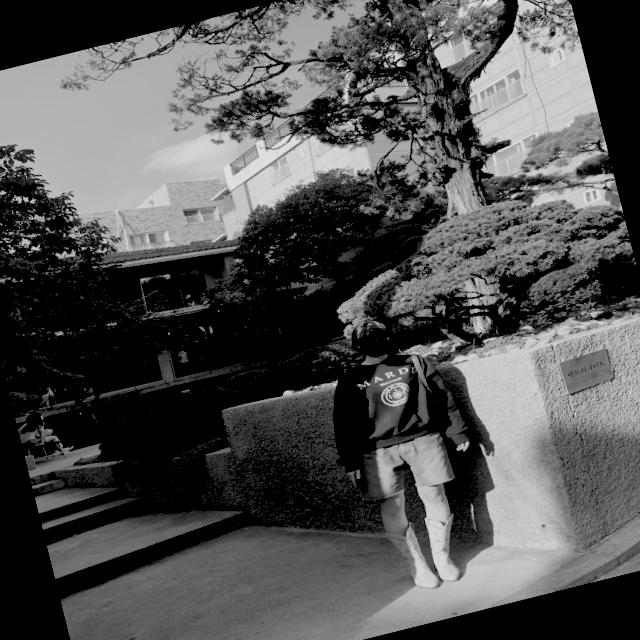mtm: (314, 338, 476, 477)
shortpants: (353, 429, 456, 503)
